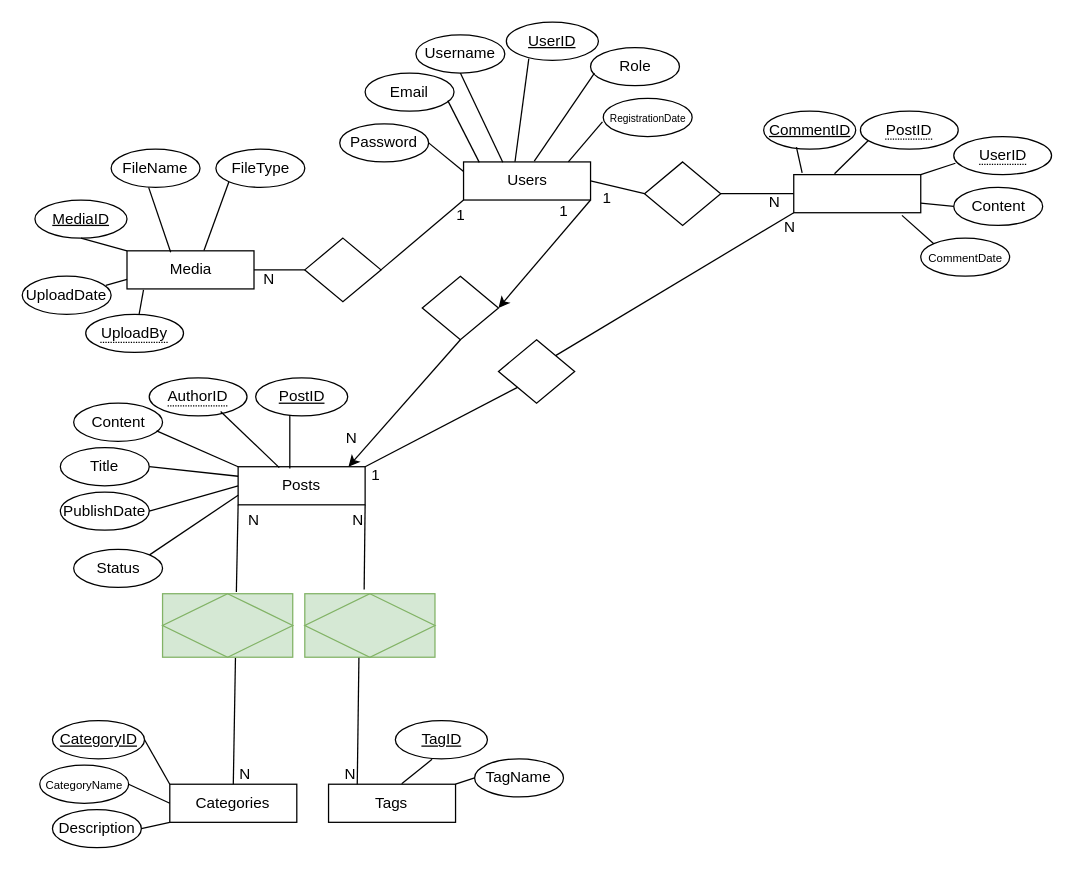
Image size: 1074x870. Some labels were removed from this diagram. Each missing label, with the centre of its shape:
"categorizes" goes at point 227,624.
"Comments" goes at point 856,193.
"creates" goes at point 459,307.
"has" goes at point 536,370.
"tagged" goes at point 369,624.
"uploads" goes at point 342,269.
"writes" goes at point 682,193.
